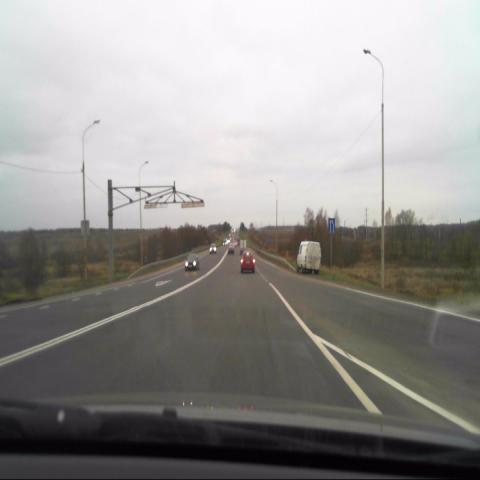5_15_5: (328, 217, 336, 233)
